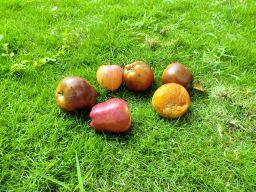apple: (89, 90, 135, 144), (49, 73, 105, 116), (147, 79, 194, 122), (153, 56, 200, 95), (121, 53, 156, 93), (95, 58, 128, 95)
